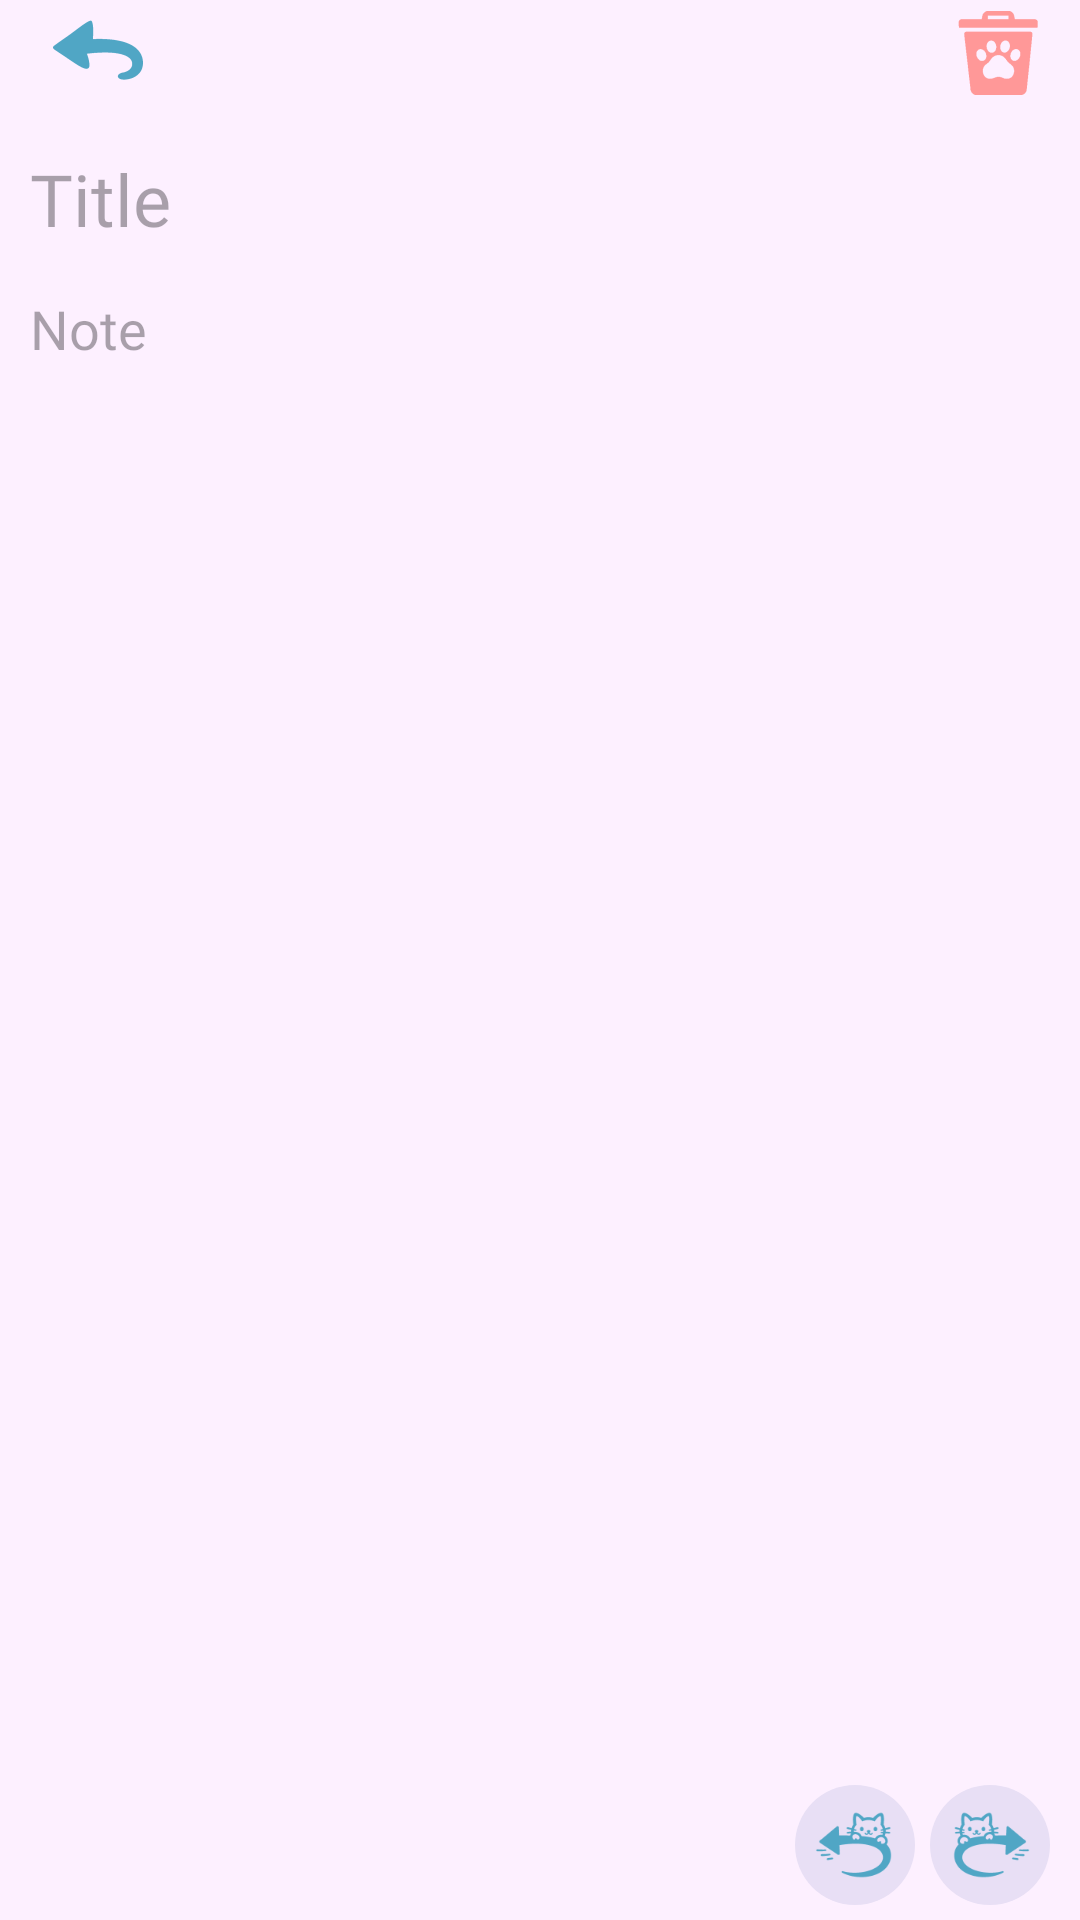

Where icons sit on this 1080×1920 app screen, as (x1, y1, x2, y2):
back: (53, 20, 143, 80)
redo: (930, 1785, 1050, 1905)
remove: (958, 11, 1038, 95)
undo: (795, 1785, 915, 1905)
